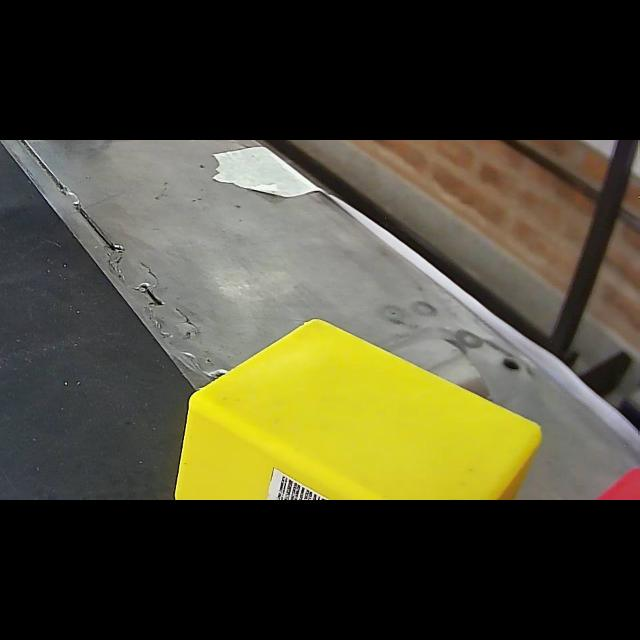yellowBox: (165, 312, 550, 500)
